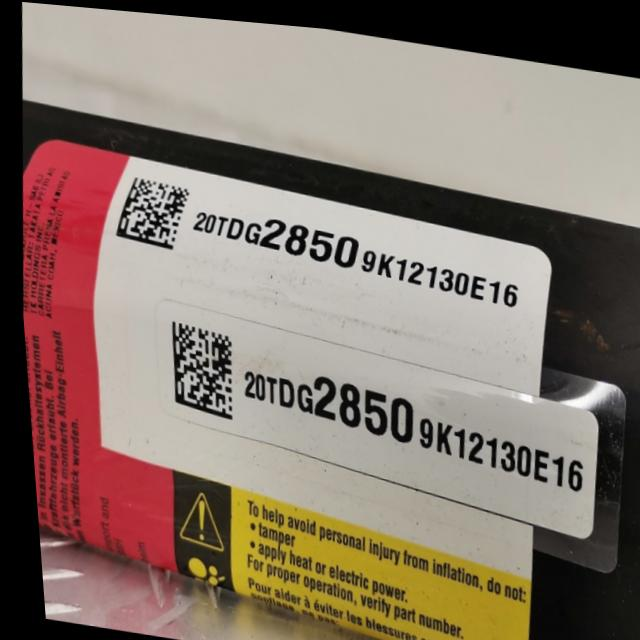datamatrix: (161, 318, 233, 417), (109, 172, 192, 250)
